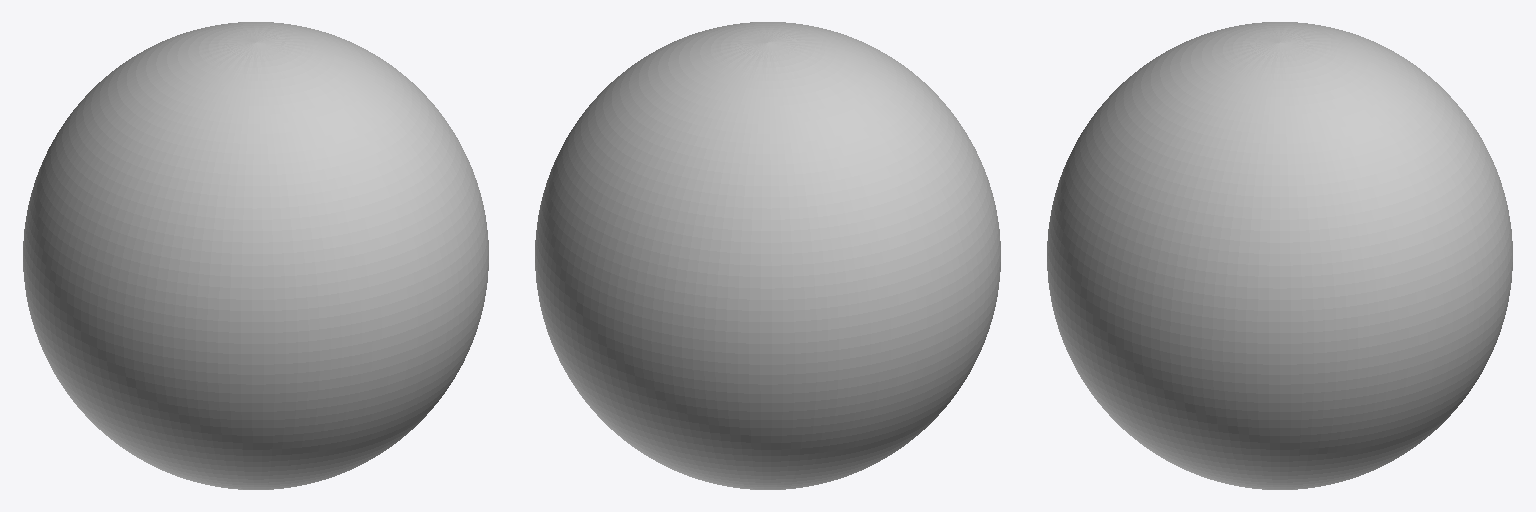
The model's file is biome2.obj.
The picture shows the model from 3 angles: view 1: azimuth 30°, elevation 25°; view 2: azimuth 150°, elevation 25°; view 3: azimuth 270°, elevation 25°; orthographic projection.
Parts seen in each view (by area): view 1: Sphere_Sphere.001; view 2: Sphere_Sphere.001; view 3: Sphere_Sphere.001.
Boxes of the visible parts, x1=… form: Sphere_Sphere.001: x1=23, y1=22, x2=488, y2=489; Sphere_Sphere.001: x1=535, y1=22, x2=1000, y2=489; Sphere_Sphere.001: x1=1047, y1=22, x2=1512, y2=489.
Bounding box in the file's own units: 44.71 × 45.18 × 44.71.